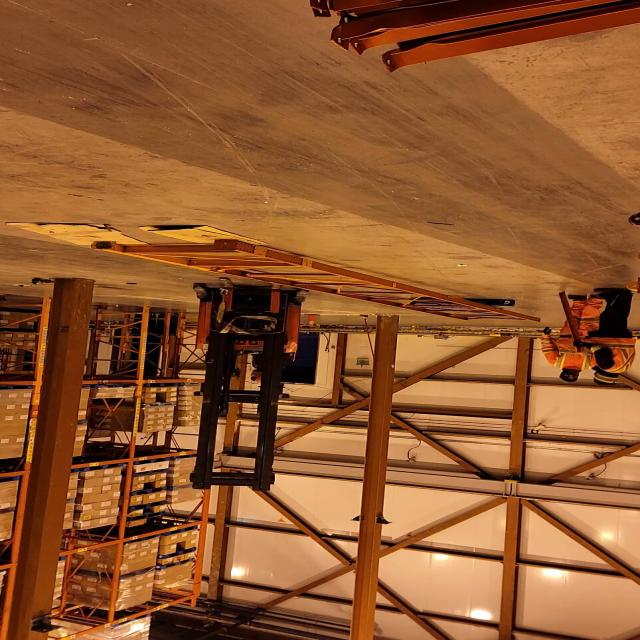forklift: (192, 280, 310, 486)
human: (538, 288, 603, 384), (592, 288, 640, 388), (242, 350, 297, 386)
objectofinterest: (90, 237, 544, 328), (3, 222, 160, 258), (127, 224, 274, 252), (470, 293, 523, 310)
